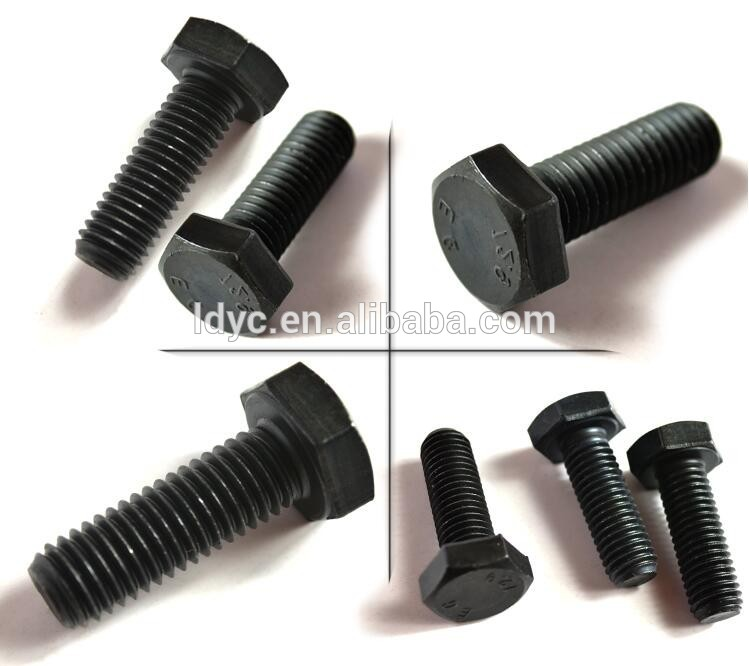screw: (27, 359, 376, 630), (431, 102, 719, 312), (73, 14, 289, 281), (156, 110, 357, 337), (525, 390, 659, 591), (624, 416, 745, 629), (417, 429, 535, 623)
